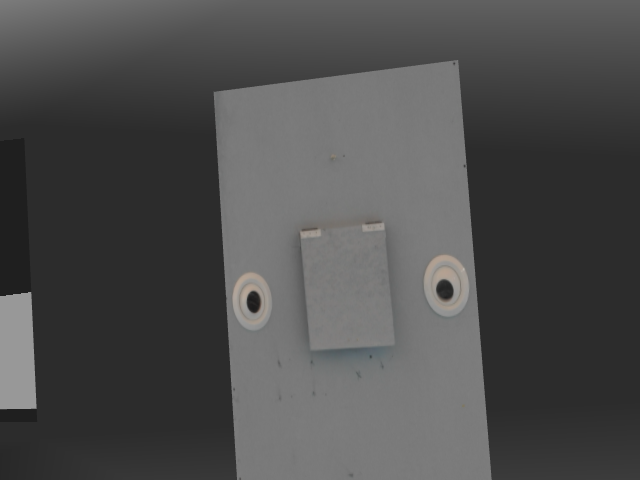facade: (229, 220, 472, 356)
